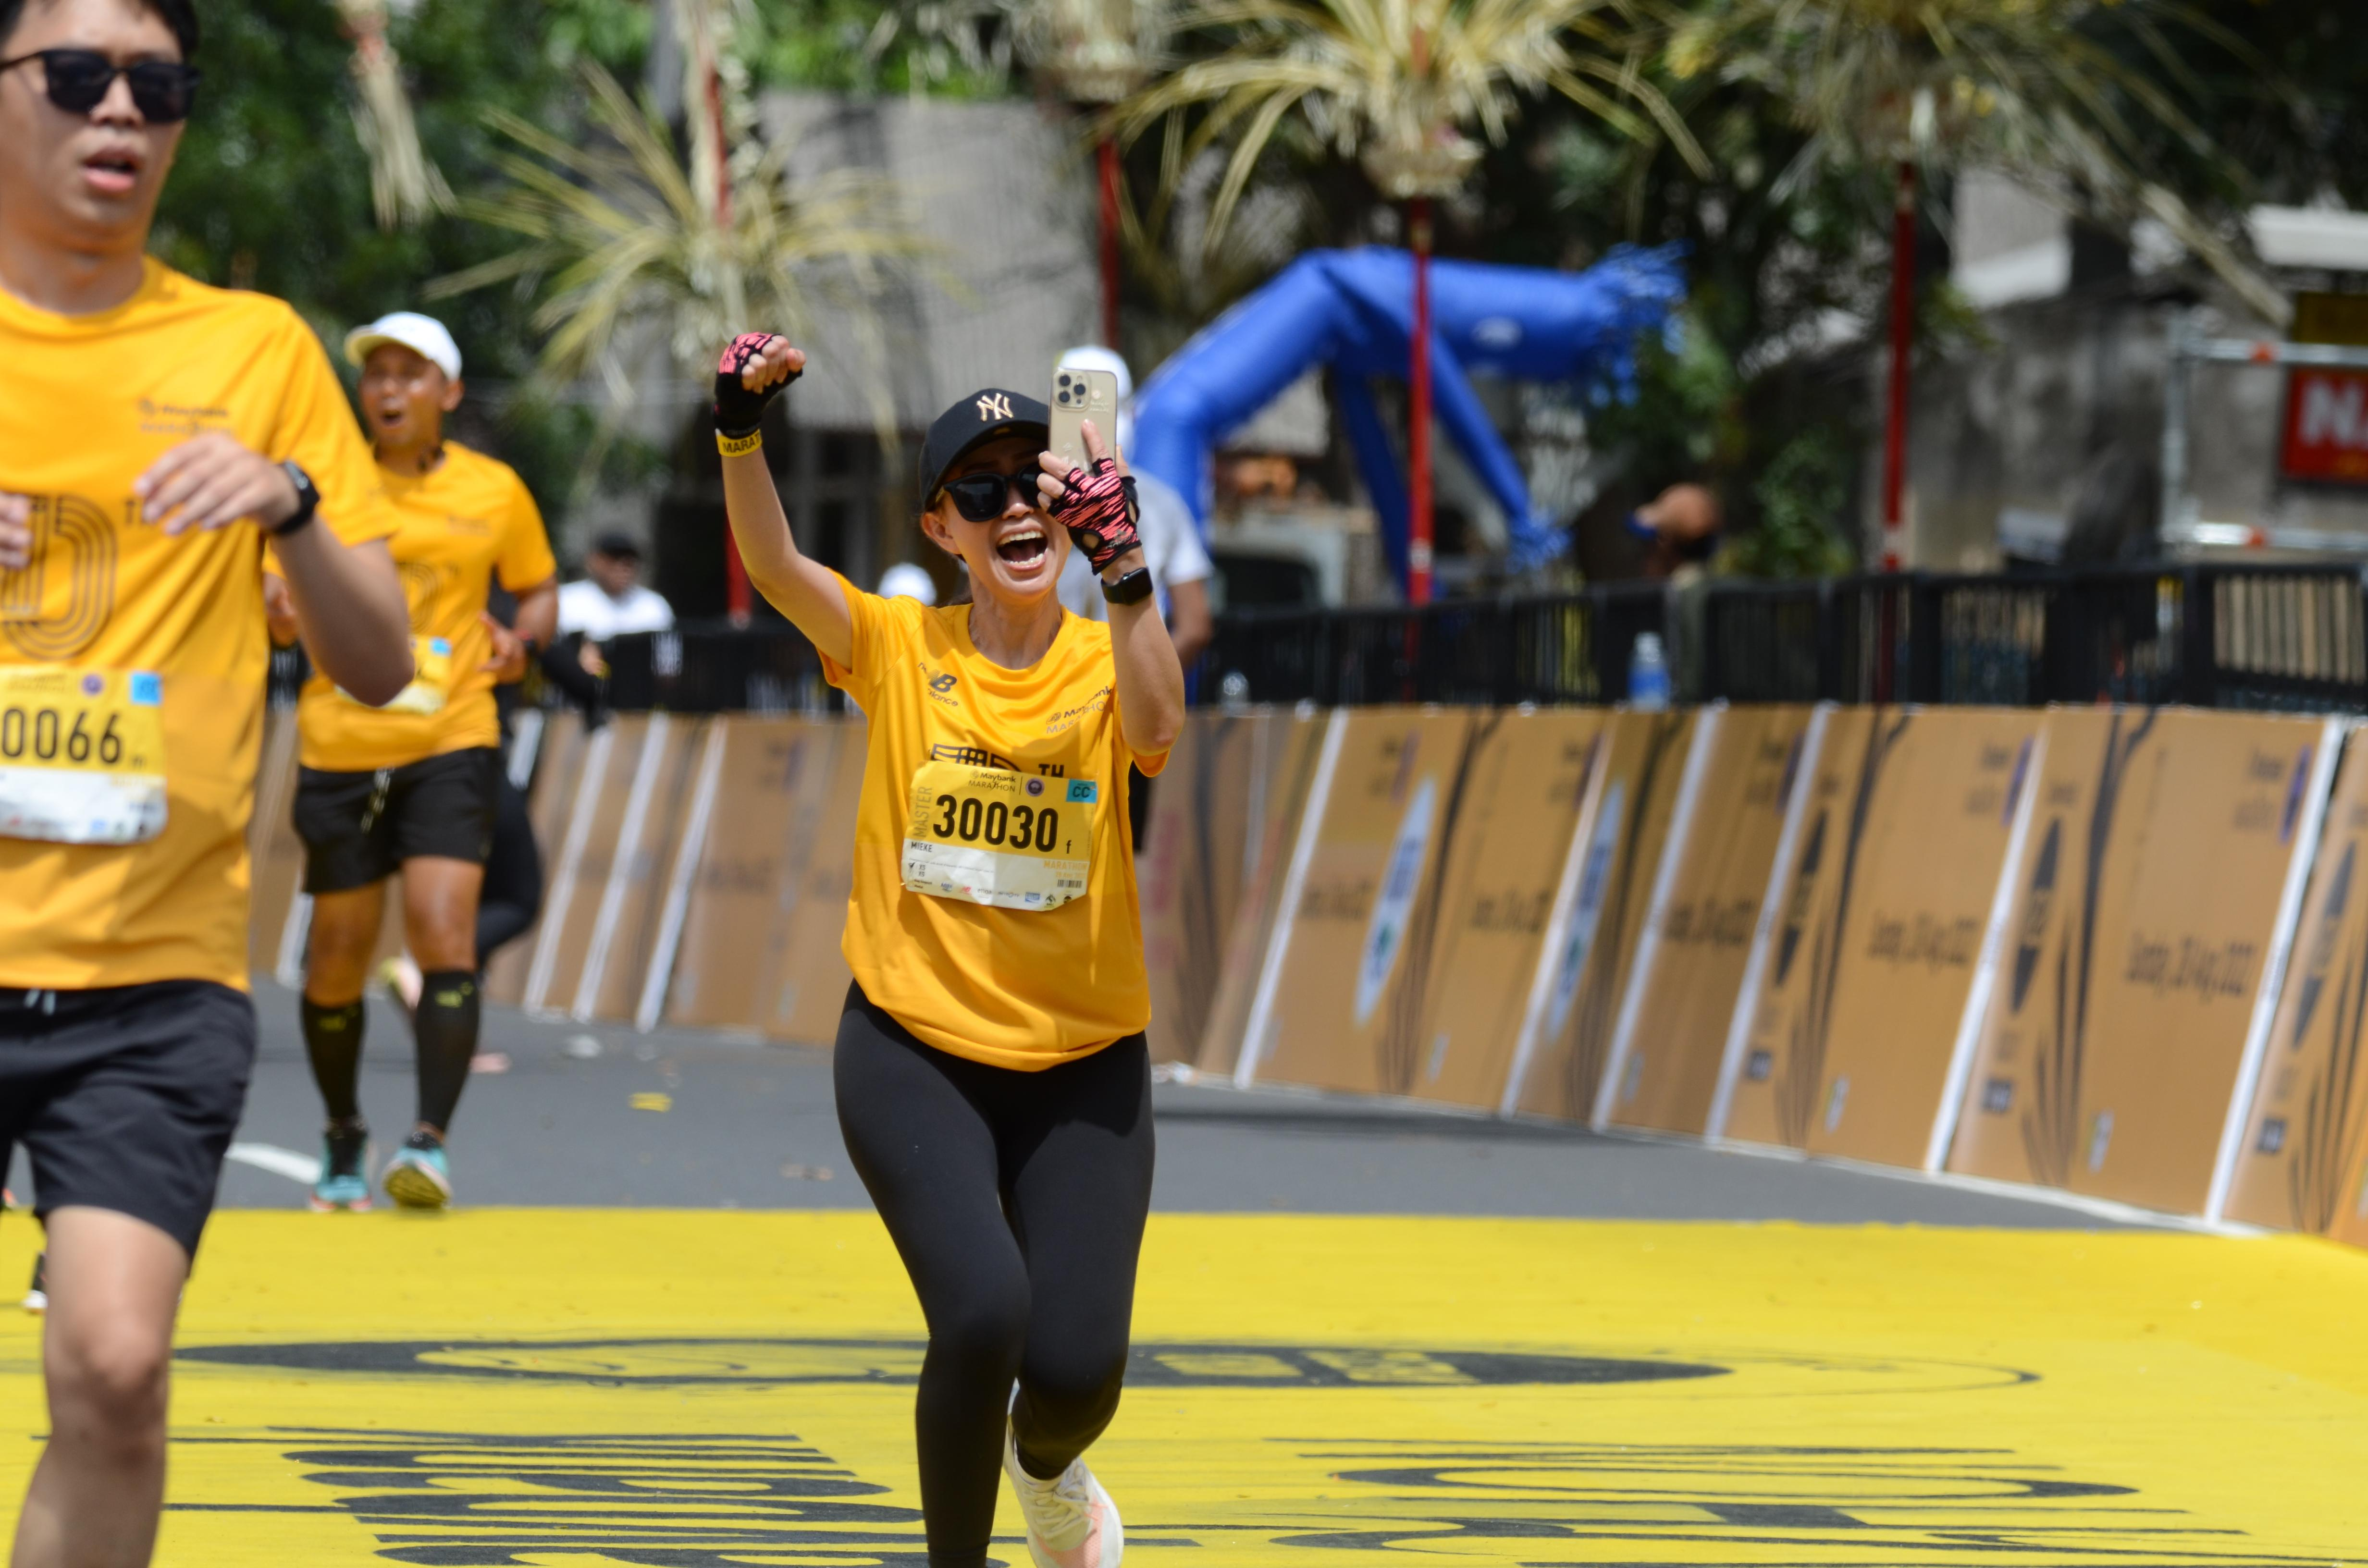bib: (0, 665, 163, 845), (903, 763, 1097, 910)
